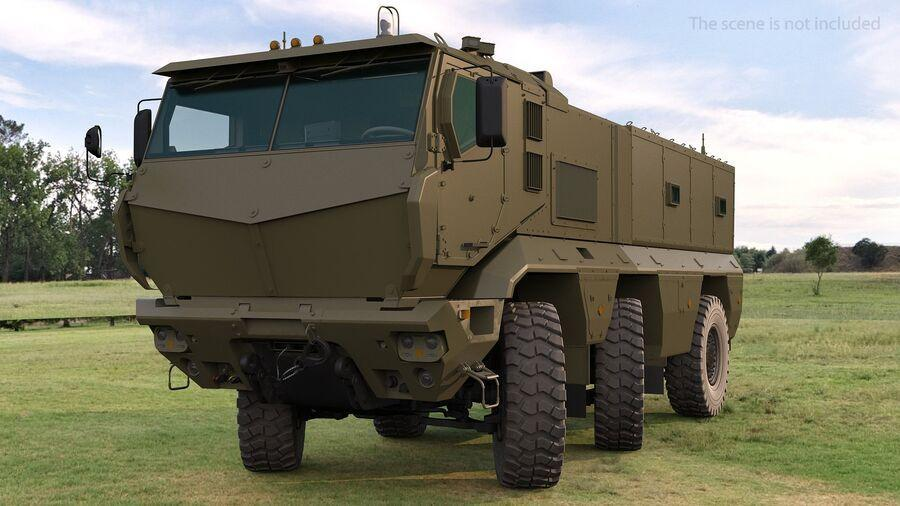truck: (115, 34, 774, 483)
